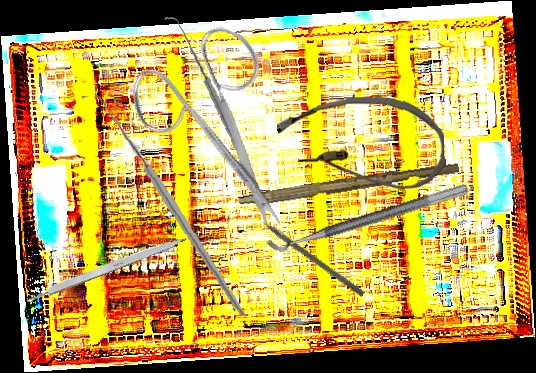Cannula: (276, 94, 446, 194)
Fixation Ring: (261, 167, 470, 256)
Hook Surgical: (81, 88, 248, 323), (148, 15, 283, 206)
Iris Scissors: (102, 4, 345, 235)
Pusher: (248, 208, 366, 298)
Scalpel Handle: (238, 157, 460, 213), (22, 232, 189, 305)
